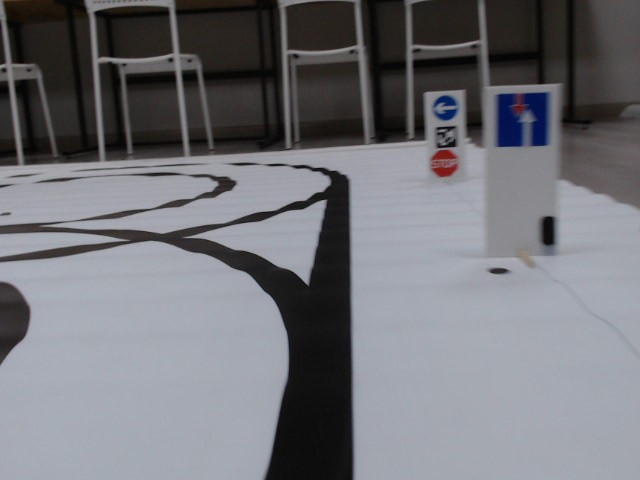Stop: (427, 149, 459, 176)
priority_movement: (492, 91, 553, 150)
